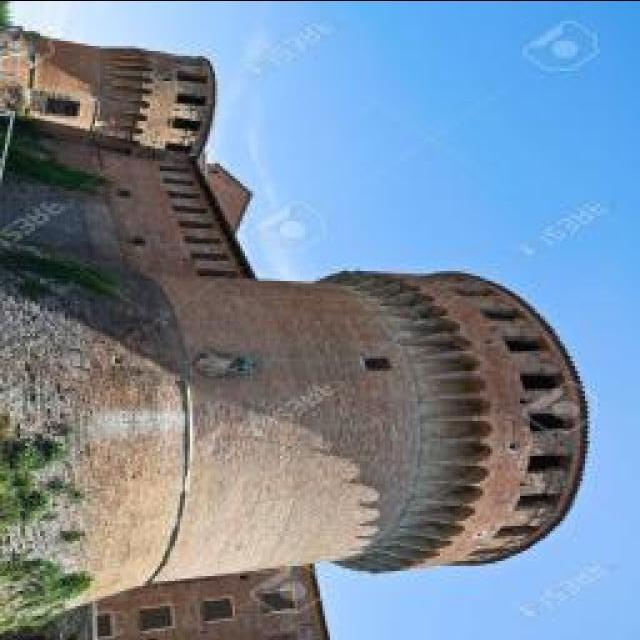Crack: (317, 267, 588, 573)
